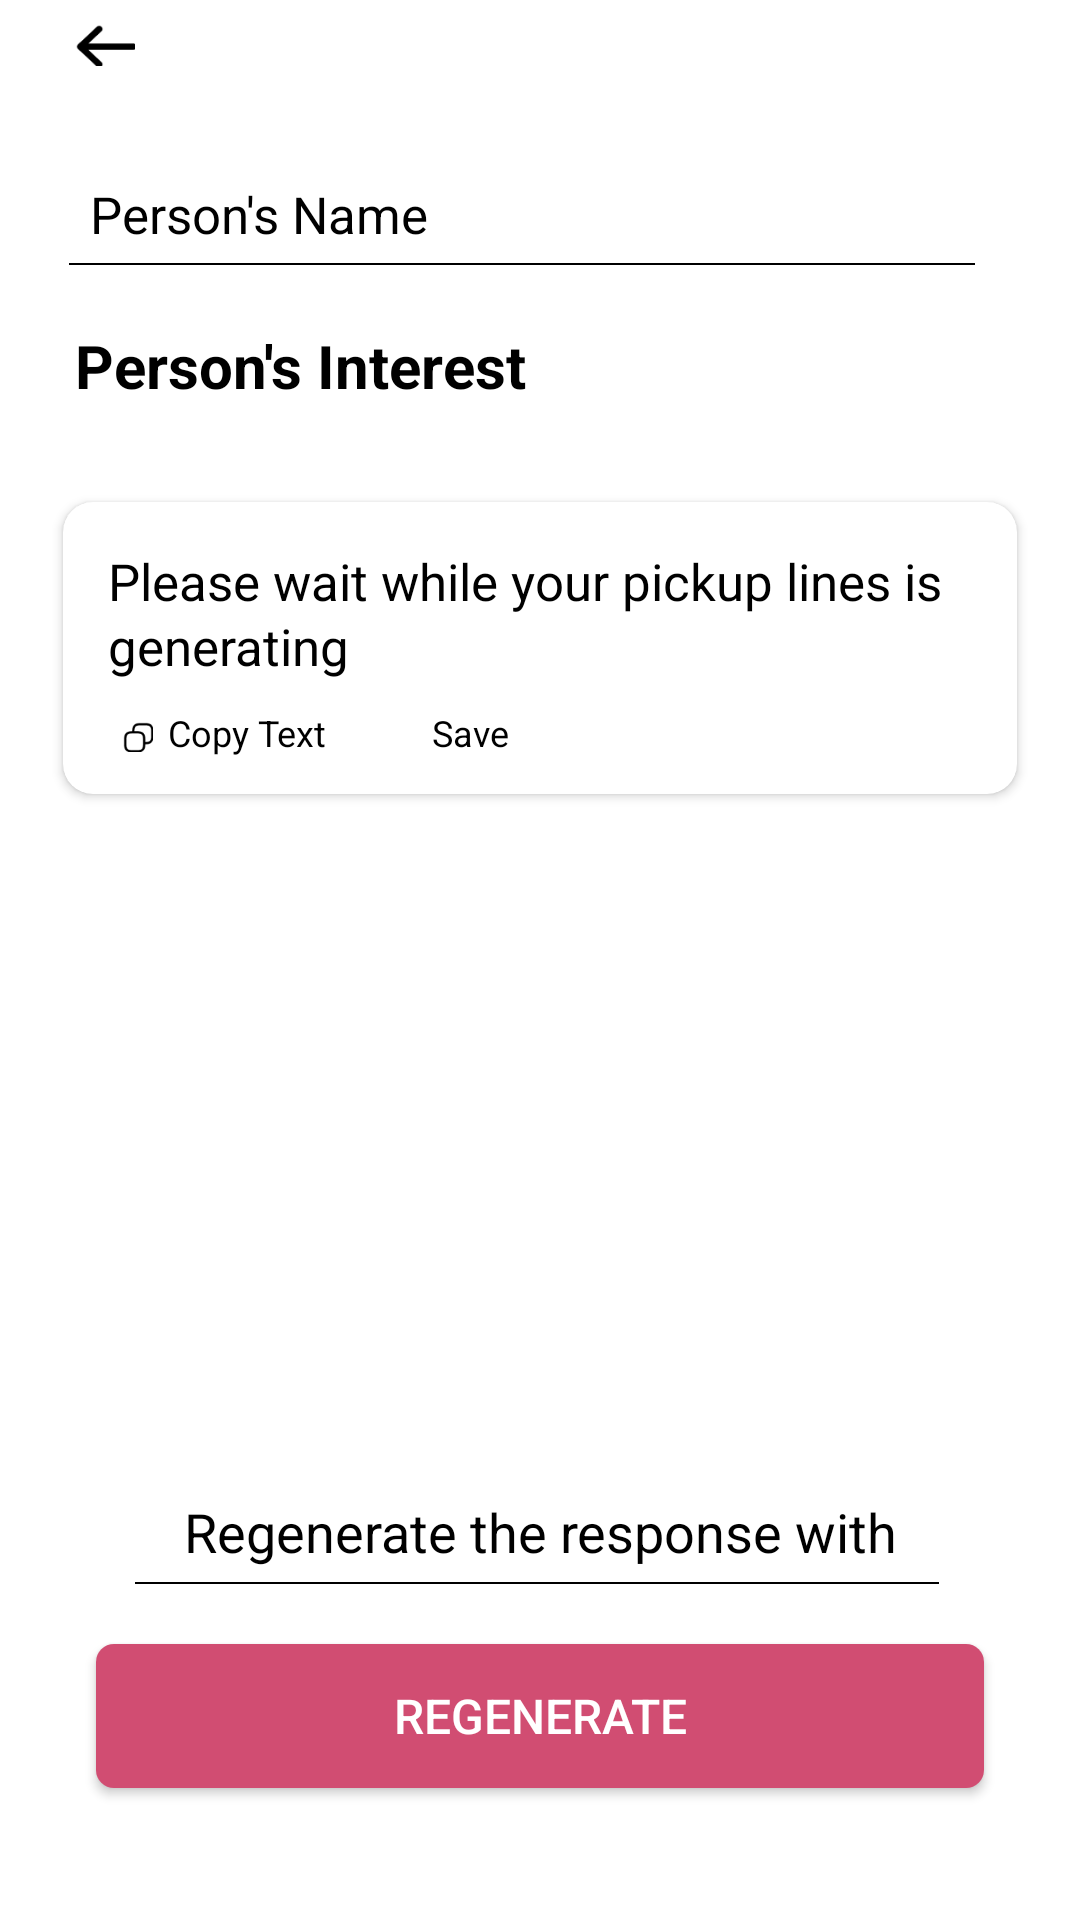

Named icons in this screenshot (1080x1920) and their centers, [x,y]:
backbtn: [105,45]
